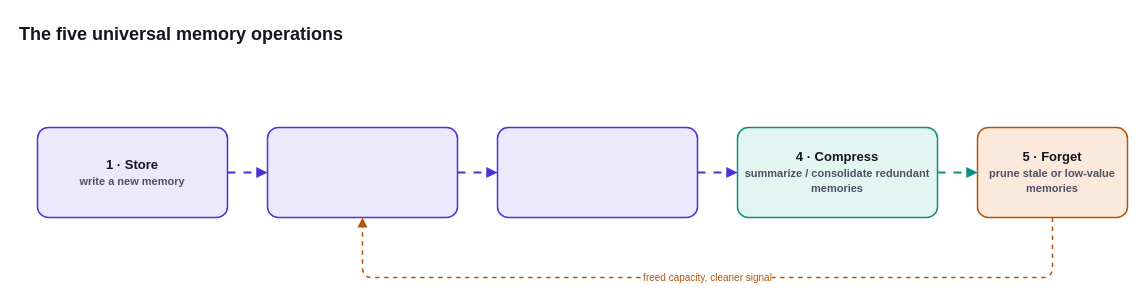
This 1145x303 diagram has some shape labels left out. The box of each missing label's shape, as (x1, y1, x2, y2) in pixels:
2 · Retrieve find relevant memories for a query: (266, 126, 458, 218)
3 · Update revise a memory when new info contradicts it: (496, 126, 698, 218)
